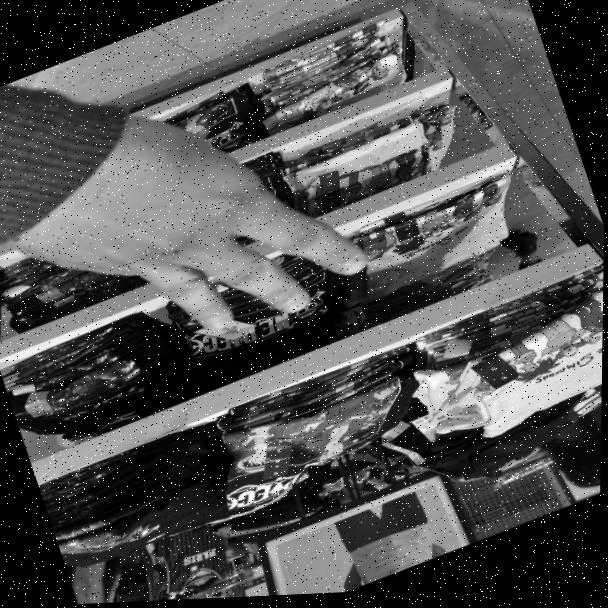five: (0, 60, 399, 411)
